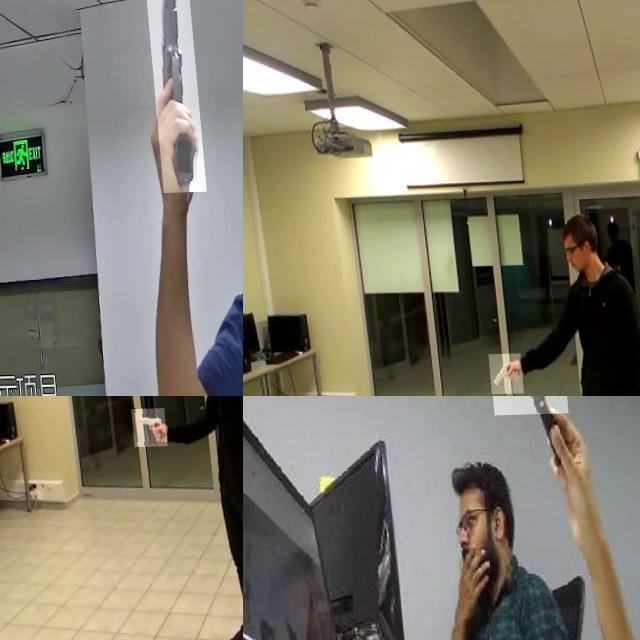-: (480, 396, 564, 467)
gun-knife-thesis - v11 Yolov5 augmented: (140, 0, 198, 194), (481, 355, 516, 396), (124, 409, 160, 448)
